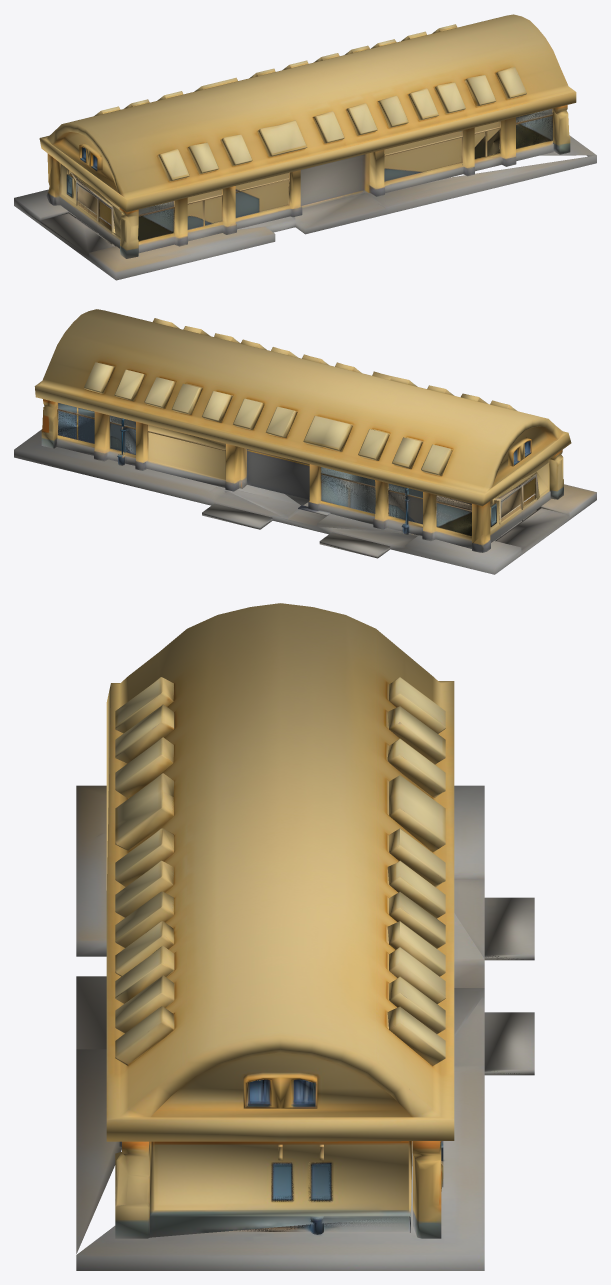
The model's file is building-hall.glb.
The picture shows the model from 3 angles, top to bottom: view 1: azimuth 30°, elevation 25°; view 2: azimuth 150°, elevation 25°; view 3: azimuth 270°, elevation 25°; orthographic projection. The views are drawn at different scales.
Visible parts, largest first — view 1: tripo_node_kodyurd-model-3_____________________; view 2: tripo_node_kodyurd-model-3_____________________; view 3: tripo_node_kodyurd-model-3_____________________.
Boxes of the visible parts, x1=… form: tripo_node_kodyurd-model-3_____________________: x1=14, y1=14, x2=596, y2=280; tripo_node_kodyurd-model-3_____________________: x1=14, y1=309, x2=596, y2=574; tripo_node_kodyurd-model-3_____________________: x1=76, y1=603, x2=534, y2=1270.
Size of the model in its own units: 0.998 by 0.2168 by 0.4121.
Materials: 1 (1 with a texture image).
